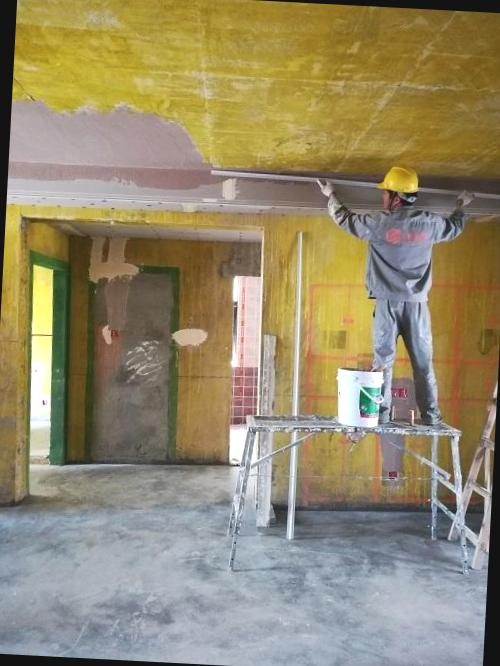helmet: (374, 161, 425, 209)
person: (334, 146, 482, 441)
